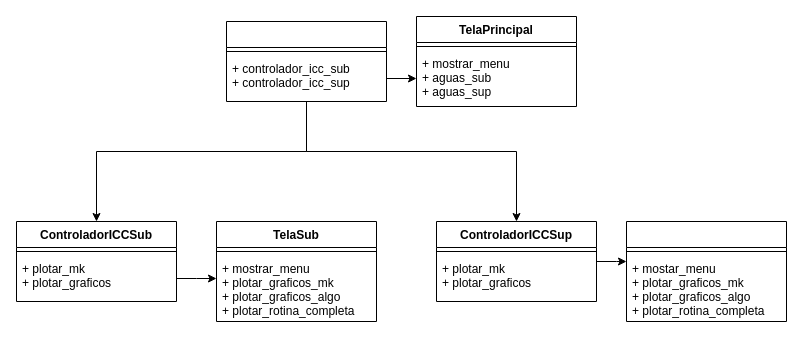
The diagram is 803 pixels wide and 338 high, and some of its shapes have lost their labels. The shapes that lost their labels are listed below. From the top down, each one's box as (x1, y1, x2, y2) in pixels, then its label:
(226, 20, 386, 102): ControladorPrincipal
(626, 220, 786, 322): TelaSup
